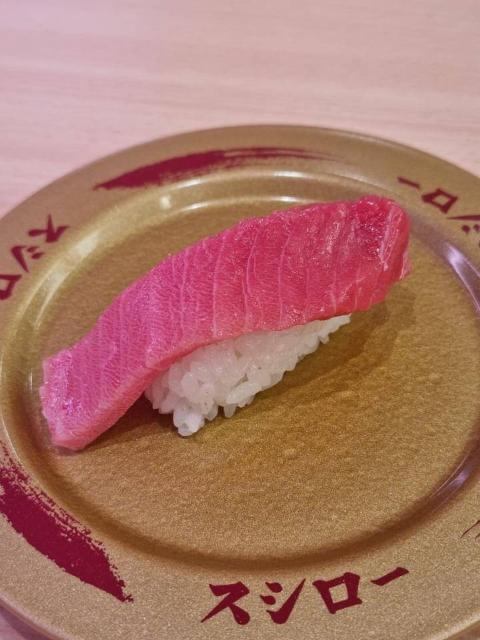jangold: (7, 142, 480, 608)
